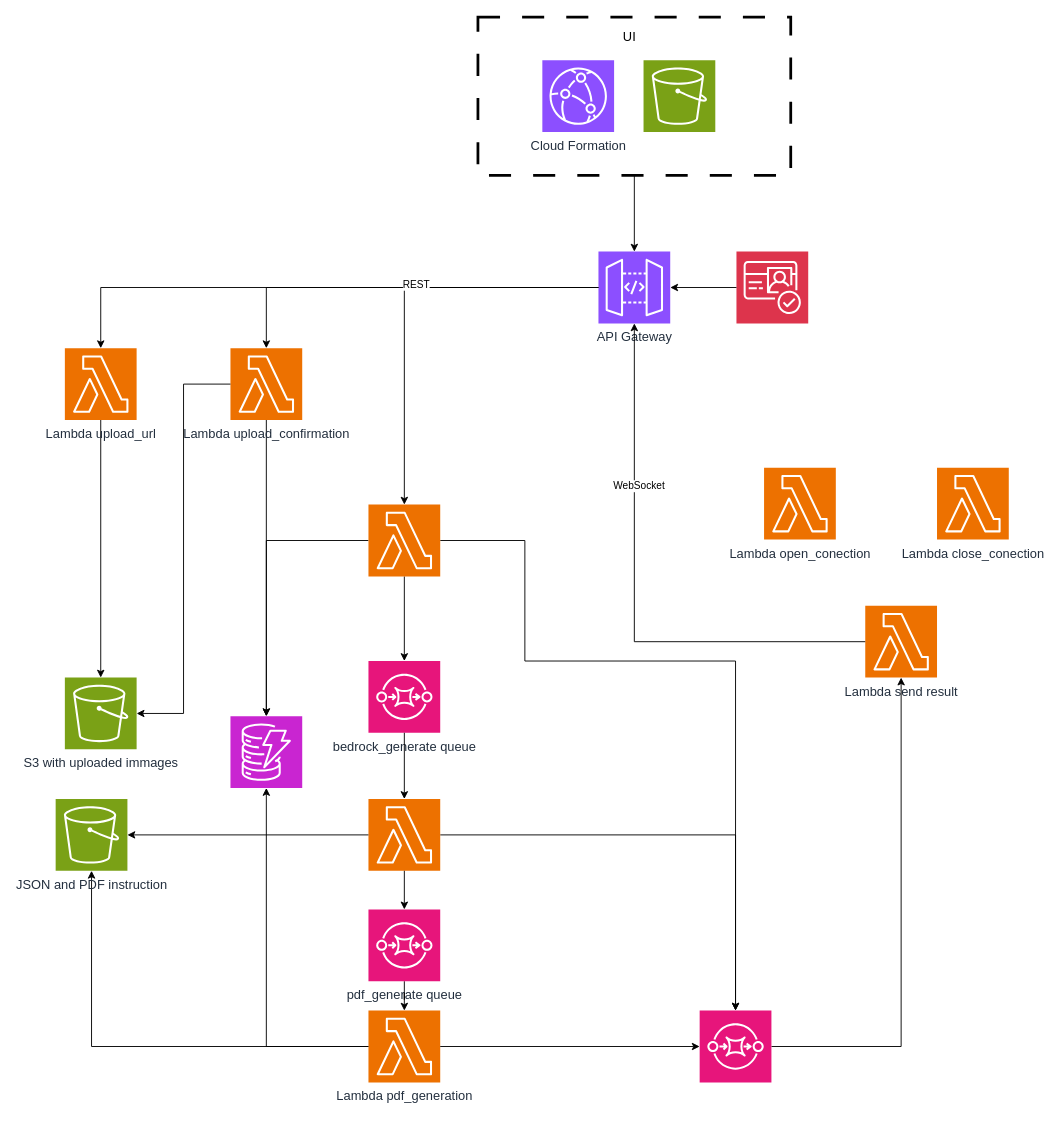
The diagram is 1060 pixels wide and 1121 high, and some of its shapes have lost their labels. The centre of each missing label's shape, as x and y in pixels:
"Cognito" belongs at point 772,287.
"JobRegistration Table" belongs at point 266,751.
"Lambda bedrock_generation" belongs at point 404,834.
"Lambda start_job" belongs at point 404,540.
"resul queue" belongs at point 735,1046.
"S3 Frontend Hosting" belongs at point 679,95.
